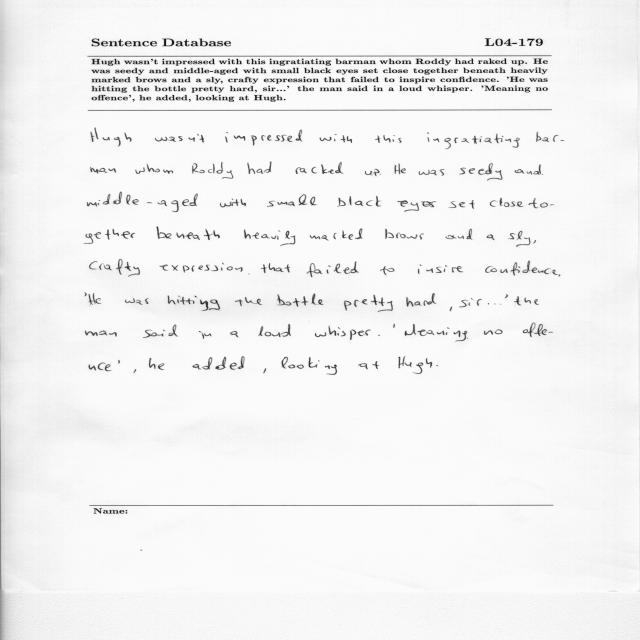word: (87, 192, 198, 212), (427, 132, 520, 149), (225, 130, 302, 146), (485, 261, 558, 276), (405, 324, 468, 341), (281, 357, 337, 375), (160, 263, 250, 274), (90, 259, 140, 277), (244, 230, 295, 247), (306, 262, 359, 278), (344, 295, 393, 312), (156, 227, 220, 240), (168, 295, 220, 311), (315, 326, 371, 340), (460, 163, 503, 181), (84, 229, 135, 244), (91, 128, 132, 146), (192, 162, 233, 179), (193, 357, 245, 370), (267, 194, 317, 207), (310, 229, 362, 241), (278, 294, 324, 307), (295, 162, 344, 174), (399, 357, 433, 374), (338, 196, 382, 207), (398, 200, 437, 212), (143, 325, 178, 338), (418, 264, 463, 274), (155, 134, 204, 143), (385, 229, 424, 240), (258, 324, 291, 337), (407, 293, 437, 307), (523, 323, 553, 337), (136, 164, 174, 174), (509, 231, 531, 247), (515, 164, 544, 175), (247, 162, 272, 174), (490, 198, 523, 207), (446, 229, 473, 240), (261, 263, 290, 273), (320, 134, 352, 143), (537, 132, 565, 142), (529, 198, 555, 208), (235, 297, 262, 306), (220, 199, 246, 208), (449, 200, 475, 209), (514, 297, 539, 306), (375, 135, 401, 143), (459, 298, 482, 307), (89, 363, 112, 372), (86, 331, 117, 337), (419, 169, 445, 176), (149, 358, 164, 370), (125, 298, 149, 305), (358, 362, 379, 370), (91, 167, 116, 173), (89, 293, 101, 305), (380, 266, 395, 275), (394, 164, 406, 175), (484, 329, 503, 335), (365, 169, 380, 176), (199, 331, 212, 339), (230, 331, 239, 337), (487, 234, 495, 240), (488, 303, 501, 305), (264, 368, 267, 374), (533, 240, 536, 244), (505, 294, 508, 298), (134, 369, 137, 373), (450, 307, 452, 312), (85, 293, 87, 297), (393, 324, 395, 328), (118, 360, 120, 364), (559, 275, 561, 277), (378, 335, 380, 336), (436, 365, 438, 366), (380, 174, 382, 174)
